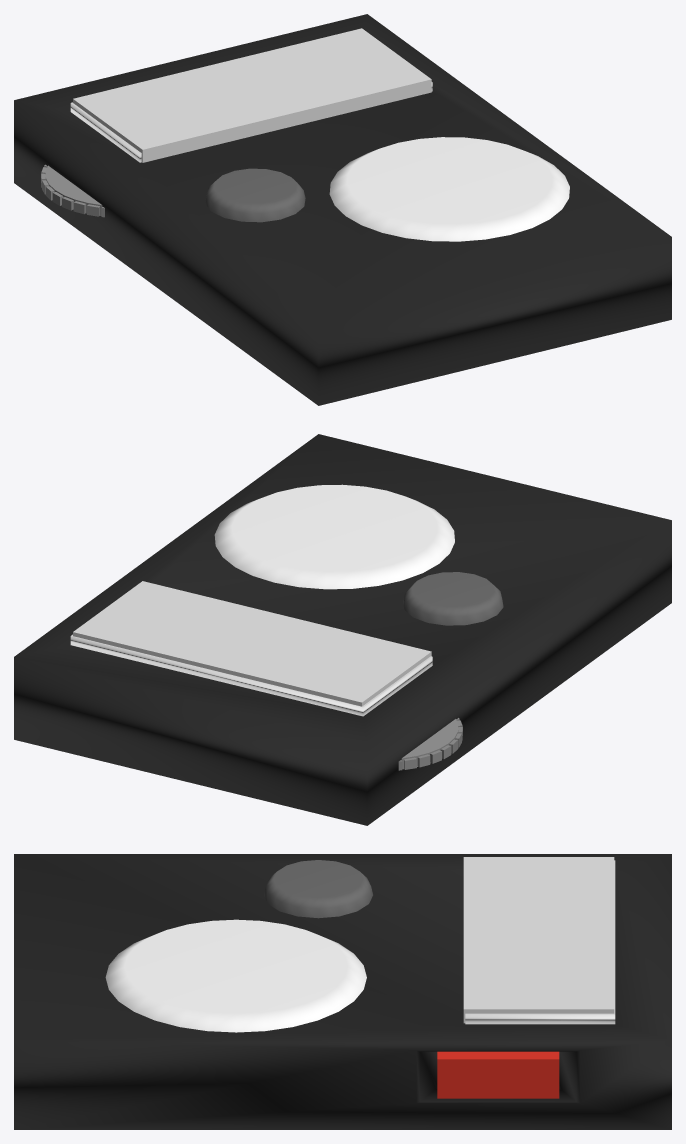
Rendered from Record.gltf.
The picture shows the model from 3 angles, top to bottom: view 1: azimuth 30°, elevation 25°; view 2: azimuth 150°, elevation 25°; view 3: azimuth 270°, elevation 25°; orthographic projection. The views are drawn at different scales.
Parts seen in each view (by area): view 1: Cube, Cube.003, Cylinder.001, Cylinder, Circle; view 2: Cube, Cube.003, Cylinder.001, Cylinder, Circle; view 3: Cube, Cube.003, Cylinder.001, Cylinder.
Part boxes in pixels (x1,y1,x2,y2): Cube: (14,14,671,405); Cube.003: (73,28,431,162); Cylinder.001: (329,137,569,241); Cylinder: (205,168,305,222); Circle: (41,164,104,217); Cube: (14,434,671,825); Cube.003: (73,581,431,706); Cylinder.001: (214,484,454,589); Cylinder: (403,572,503,625); Circle: (398,718,462,770); Cube: (14,854,671,1129); Cube.003: (463,857,614,1023); Cylinder.001: (105,919,366,1032); Cylinder: (264,860,372,918).
Bounding box in the file's own units: 1.44 × 0.3542 × 2.
